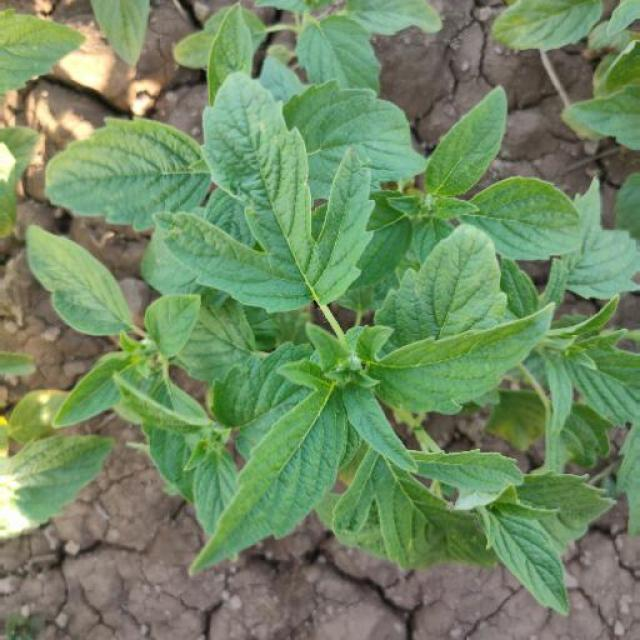crop: (19, 9, 640, 604)
